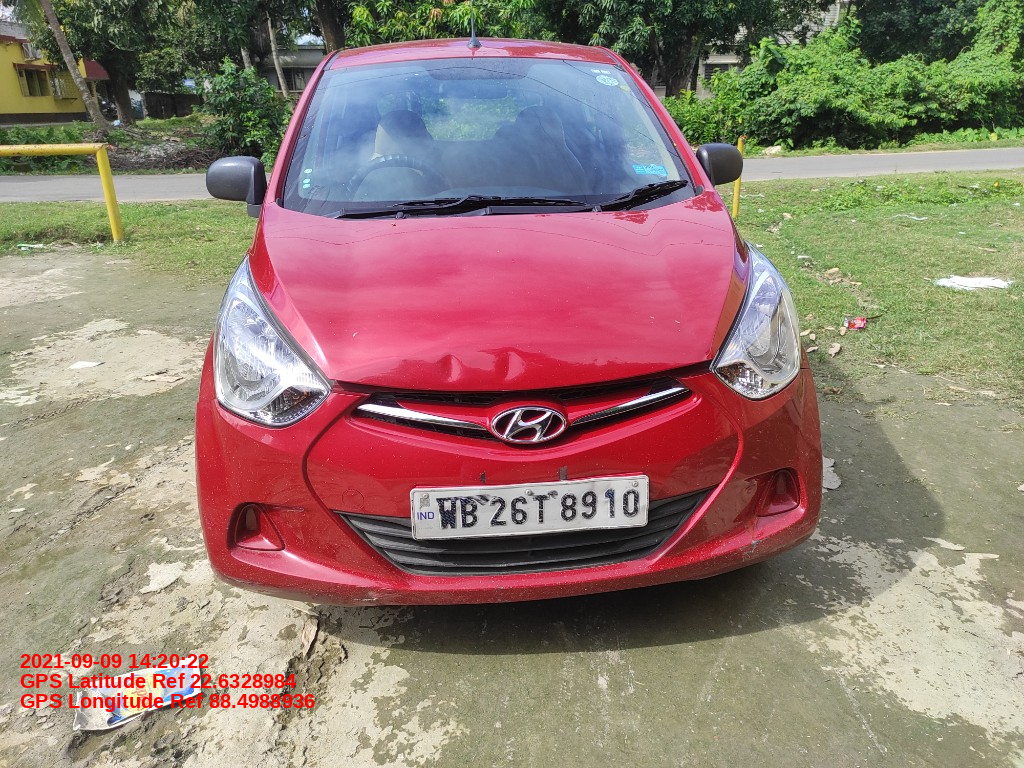Cracked: (345, 591, 395, 607)
Scratched: (485, 340, 536, 389), (429, 342, 471, 390), (739, 533, 766, 564), (557, 462, 575, 481), (477, 470, 495, 485)
